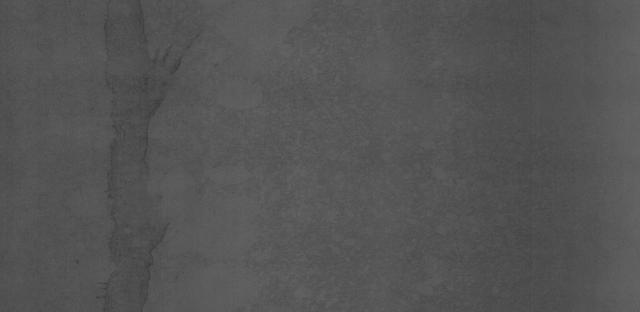water_spot: (93, 7, 190, 298)
